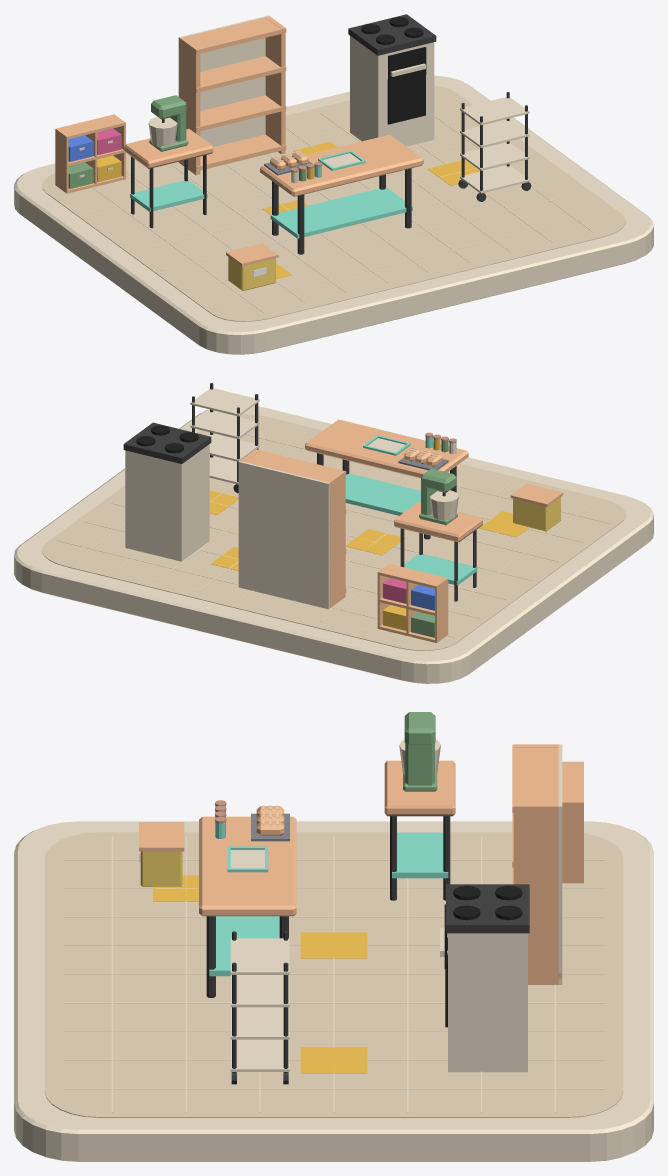
3 renders of one model, top to bottom at view 1: azimuth 30°, elevation 25°; view 2: azimuth 150°, elevation 25°; view 3: azimuth 270°, elevation 25°, orthographic. The views are drawn at different scales.
Visible parts, largest first — view 1: COM-02 Floor Surface, COM-01 Rounded Base Direct, Stove, Back, Worktop, Lower shelf, Side.001, Side, Shelf.003, Shelf.002, Hob, Worktop.001 (+21 smaller); view 2: COM-02 Floor Surface, COM-01 Rounded Base Direct, Back, Stove, Worktop, Lower shelf, Side, Hob, Worktop.001, Shelf.003, Box, Lower shelf.001 (+16 smaller); view 3: COM-02 Floor Surface, COM-01 Rounded Base Direct, Stove, Worktop, Side.001, Worktop.001, Hob, Shelf.003, Lower shelf.001, Rack shelf.003, Lower shelf, Geometric color tile.001 (+20 smaller).
Boxes of the visible parts, <box> form: COM-02 Floor Surface: <box>42,86,625,321</box>; COM-01 Rounded Base Direct: <box>14,75,653,354</box>; Stove: <box>350,36,434,146</box>; Back: <box>178,15,269,162</box>; Worktop: <box>260,134,423,196</box>; Lower shelf: <box>270,187,412,238</box>; Side.001: <box>265,16,285,154</box>; Side: <box>179,36,200,174</box>; Shelf.003: <box>179,17,286,54</box>; Shelf.002: <box>179,56,286,92</box>; Hob: <box>348,14,436,55</box>; Worktop.001: <box>124,129,213,168</box>; COM-02 Floor Surface: <box>42,414,625,650</box>; COM-01 Rounded Base Direct: <box>14,405,653,683</box>; Back: <box>238,461,329,609</box>; Stove: <box>125,444,209,561</box>; Worktop: <box>305,419,468,478</box>; Lower shelf: <box>345,473,420,515</box>; Side: <box>326,470,345,607</box>; Hob: <box>123,422,211,463</box>; Worktop.001: <box>394,502,482,542</box>; Shelf.003: <box>245,449,346,487</box>; Box: <box>513,497,560,531</box>; Lower shelf.001: <box>404,554,477,585</box>; COM-02 Floor Surface: <box>44,832,623,1117</box>; COM-01 Rounded Base Direct: <box>14,821,653,1161</box>; Stove: <box>448,933,527,1072</box>; Worktop: <box>199,816,296,916</box>; Side.001: <box>513,803,558,984</box>; Worktop.001: <box>384,760,455,816</box>; Hob: <box>446,884,529,933</box>; Shelf.003: <box>512,744,560,812</box>; Lower shelf.001: <box>392,832,448,878</box>; Rack shelf.003: <box>230,938,289,974</box>; Lower shelf: <box>209,916,279,976</box>; Geometric color tile.001: <box>300,932,367,958</box>.
Size of the model in its own units: 6 by 1.9 by 5.2.
1 material, 1 textured.
